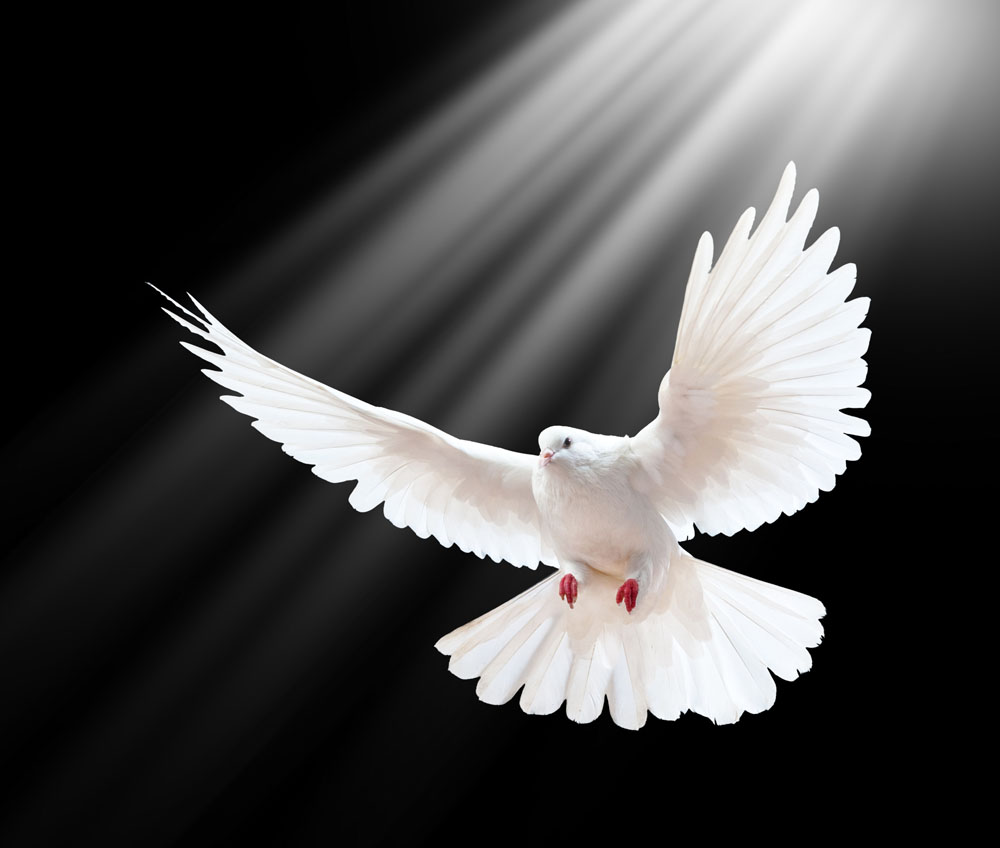bird: (119, 151, 875, 728)
